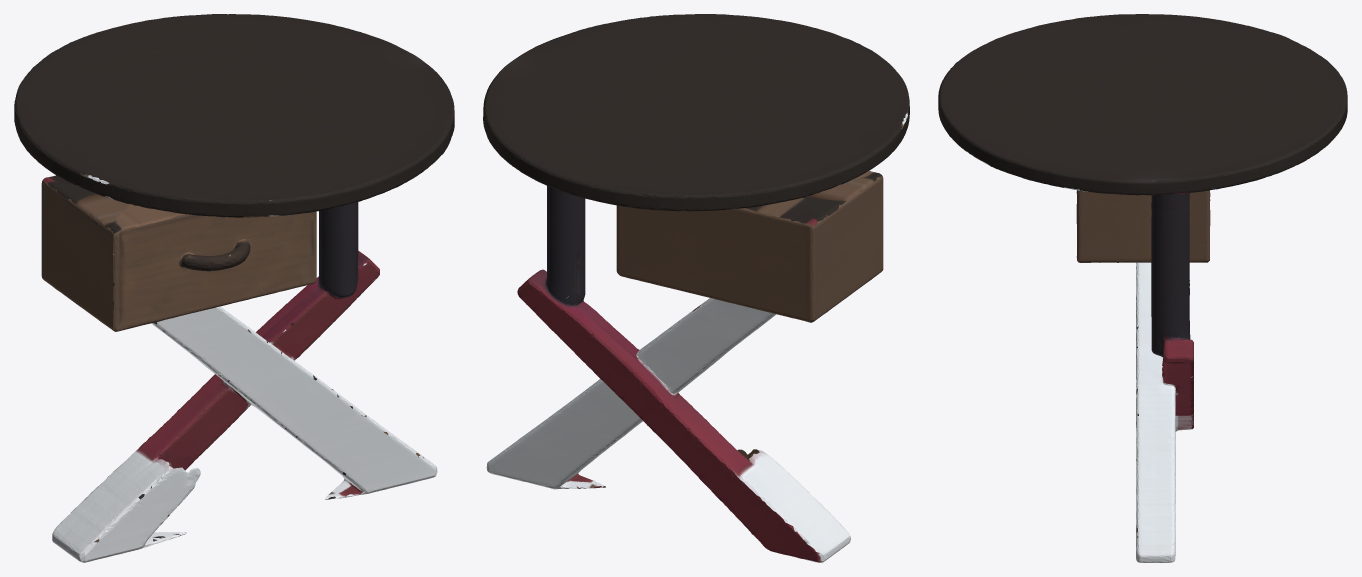
The picture shows the model from 3 angles, left to right: view 1: azimuth 30°, elevation 25°; view 2: azimuth 150°, elevation 25°; view 3: azimuth 270°, elevation 25°; orthographic projection. The views are drawn at different scales.
Visible parts, largest first — view 1: world; view 2: world; view 3: world.
Boxes of the visible parts, box(x1,y1,x2,y2) form: world: box(14, 14, 454, 562); world: box(483, 14, 909, 562); world: box(938, 14, 1347, 562).
Size of the model in its own units: 1.95 by 2 by 1.95.
1 material, 1 textured.
